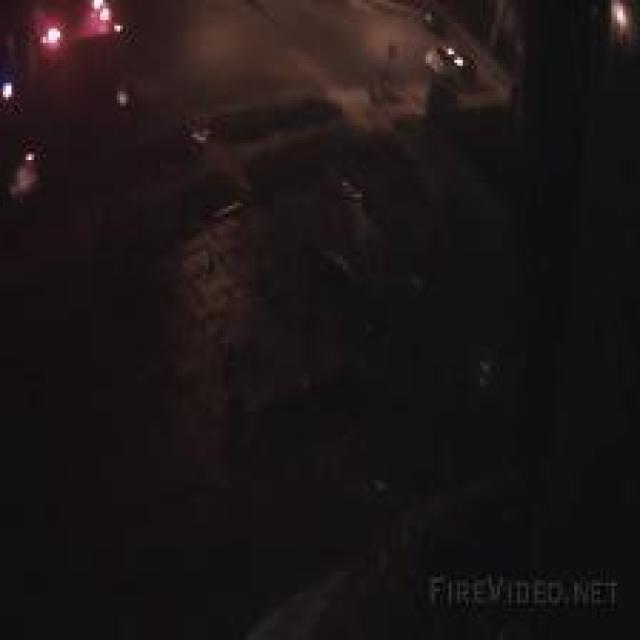other: (24, 0, 139, 60)
